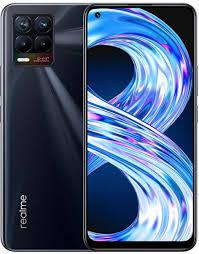Smartphone: (86, 3, 199, 245), (4, 4, 86, 251)
